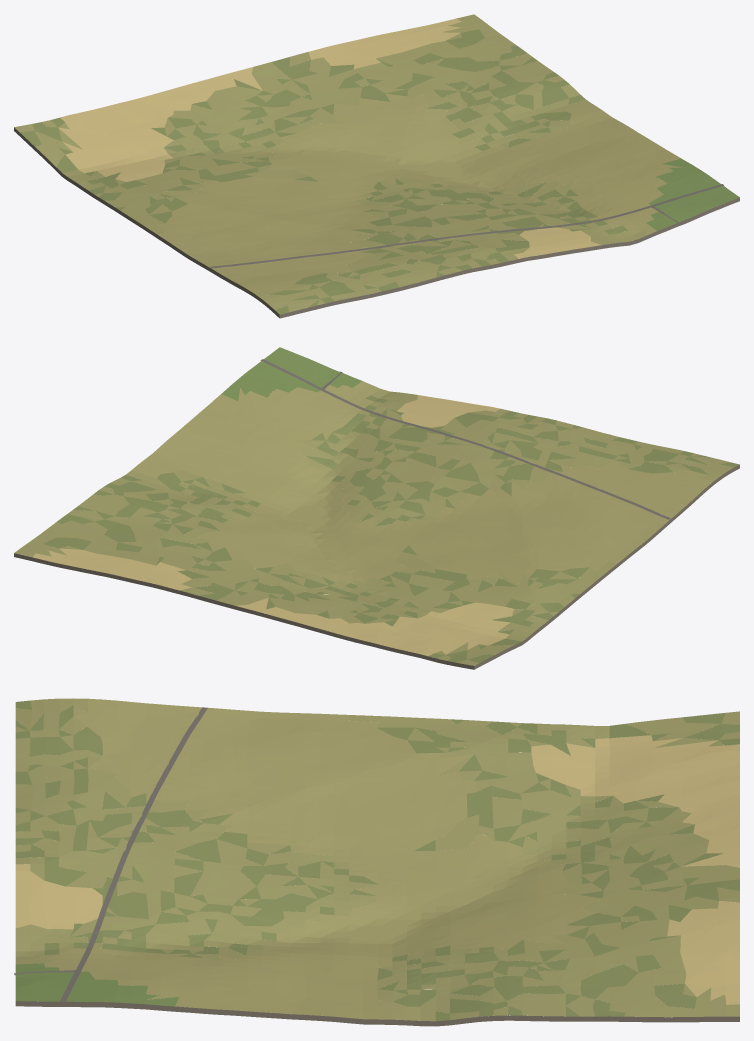
Rendered from parca_-2_-5-uzak.glb.
The picture shows the model from 3 angles, top to bottom: view 1: azimuth 30°, elevation 25°; view 2: azimuth 150°, elevation 25°; view 3: azimuth 270°, elevation 25°; orthographic projection. The views are drawn at different scales.
Parts seen in each view (by area): view 1: parca_-2_-5_arazi_uzak, parca_-2_-5_yollar_uzak; view 2: parca_-2_-5_arazi_uzak, parca_-2_-5_yollar_uzak; view 3: parca_-2_-5_arazi_uzak, parca_-2_-5_yollar_uzak.
Part boxes in pixels (<box>): parca_-2_-5_arazi_uzak: <box>14,14,739,318</box>; parca_-2_-5_yollar_uzak: <box>210,184,723,268</box>; parca_-2_-5_arazi_uzak: <box>14,347,739,669</box>; parca_-2_-5_yollar_uzak: <box>260,359,670,519</box>; parca_-2_-5_arazi_uzak: <box>15,698,739,1026</box>; parca_-2_-5_yollar_uzak: <box>14,707,207,1001</box>.
Bounding box in the file's own units: 1002 × 62.58 × 1003.
